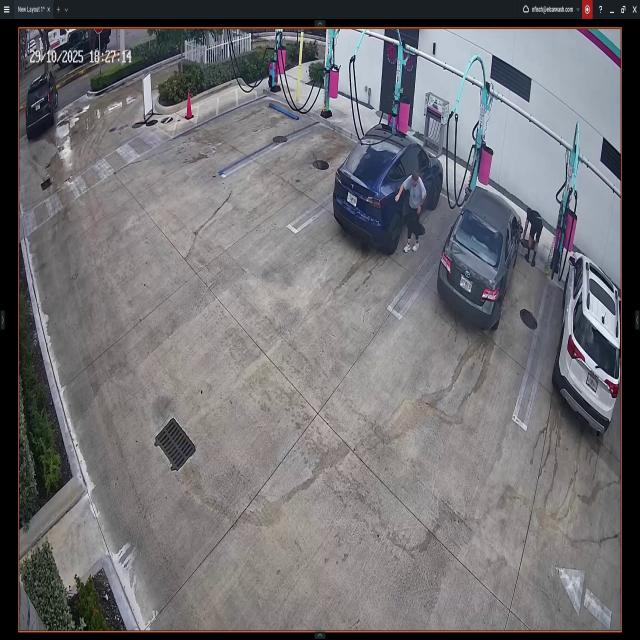Car: (333, 124, 444, 245), (555, 247, 622, 435), (440, 190, 523, 326), (26, 74, 56, 133)
